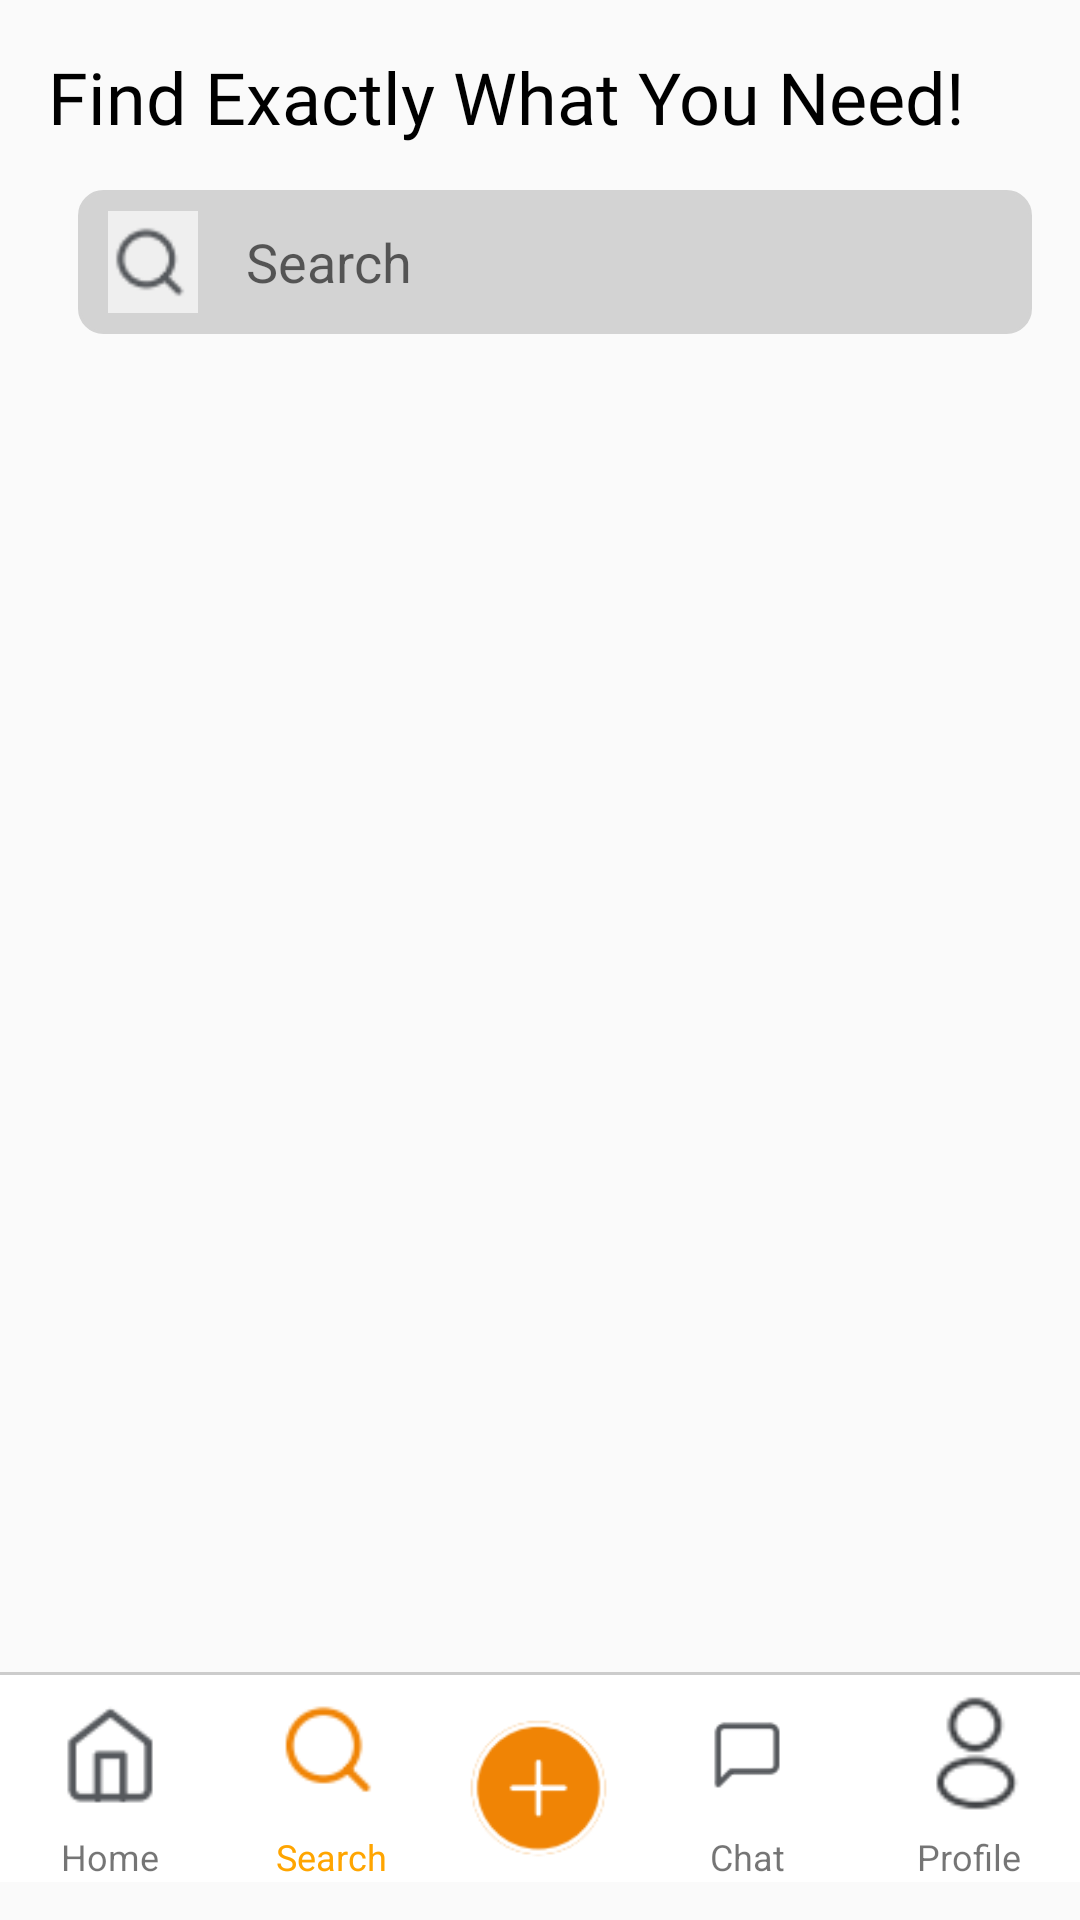

Screen size 1080px×1920px. Icon name, then its center in pixels as (x=x, y=y):
Add: (x=538, y=1788)
